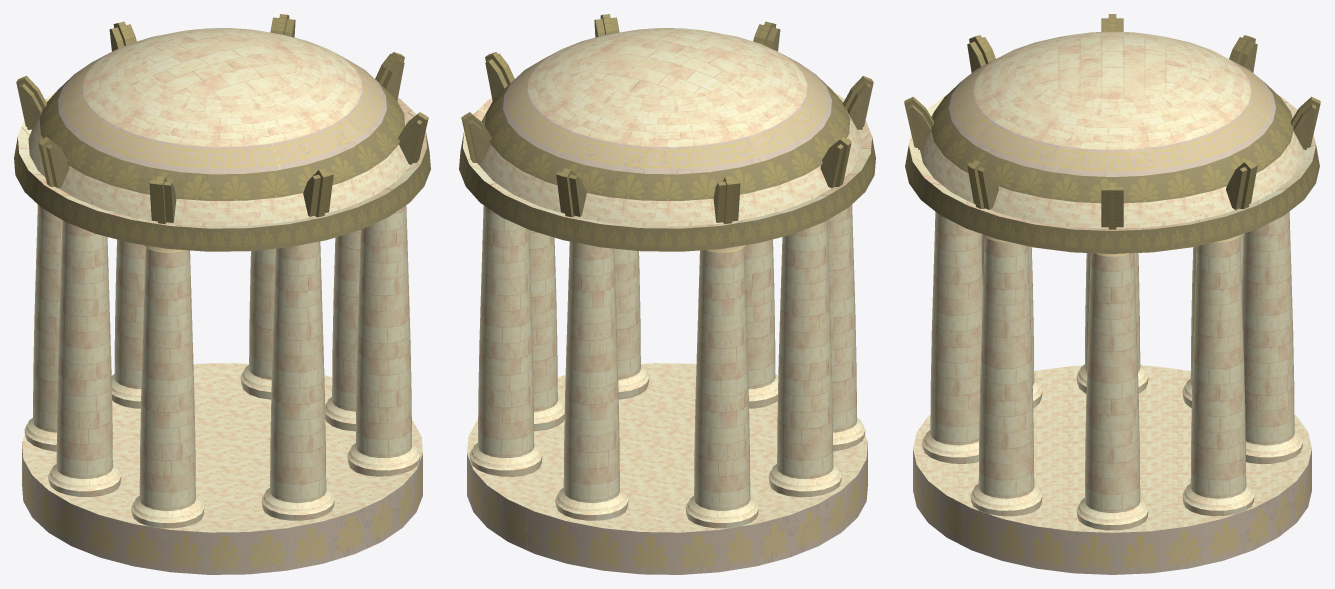
File: SM_circular_terrace.glb
3 views of the same model, side by side, from view 1: azimuth 30°, elevation 25°; view 2: azimuth 150°, elevation 25°; view 3: azimuth 270°, elevation 25° (orthographic).
Parts seen in each view (by area): view 1: SM_circular_terrace; view 2: SM_circular_terrace; view 3: SM_circular_terrace.
Boxes of the visible parts, x1,y1,x2,y2 form: SM_circular_terrace: [14, 14, 430, 574]; SM_circular_terrace: [459, 14, 875, 574]; SM_circular_terrace: [904, 14, 1320, 574].
Size of the model in its own units: 45.67 by 52.39 by 45.62.
Materials: 3 (3 with a texture image).
